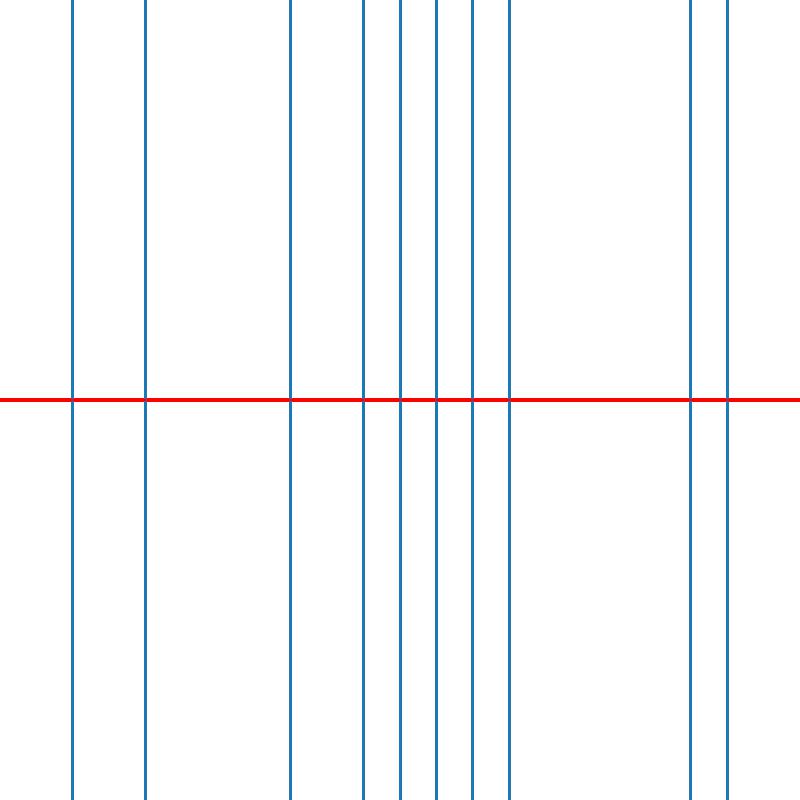root: (141, 396, 149, 404), (432, 396, 440, 404), (396, 396, 403, 404), (360, 396, 367, 404), (505, 396, 512, 404), (687, 396, 694, 404), (69, 396, 76, 404), (469, 396, 476, 404), (287, 396, 294, 404), (723, 396, 730, 404)
